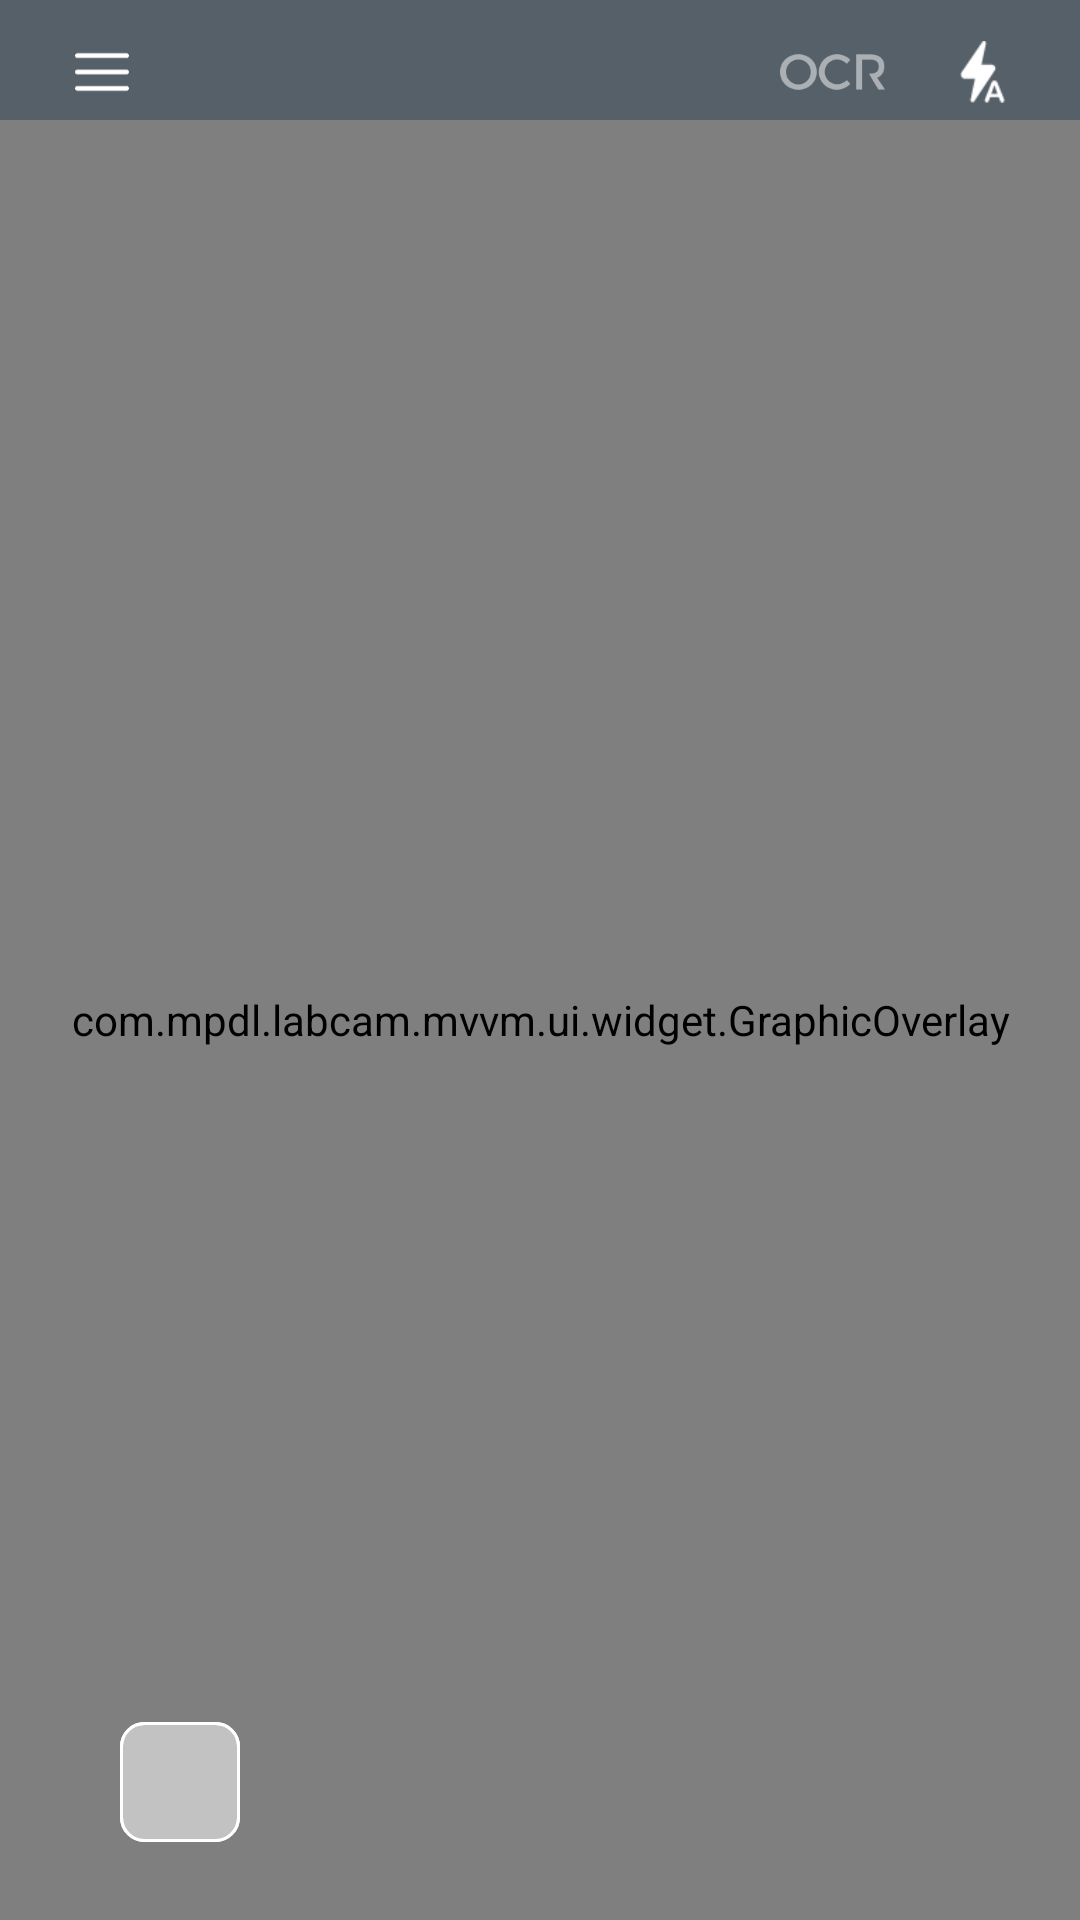

Icon click points for this 1080w x 1920h phone screenshot, format [x,y]:
flash: [982,72]
menu: [102,72]
